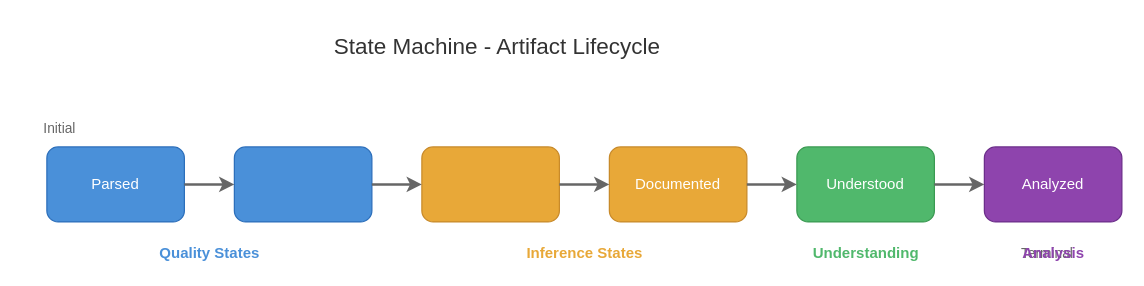
Image size: 1144x286. Some labels were removed from this diagram. The shapes that lost their labels are listed below. From the top down, each one's box as (x1, y1, x2, y2) in pixels, then its label:
(233, 146, 372, 222): Validated
(421, 146, 559, 222): Inferred
